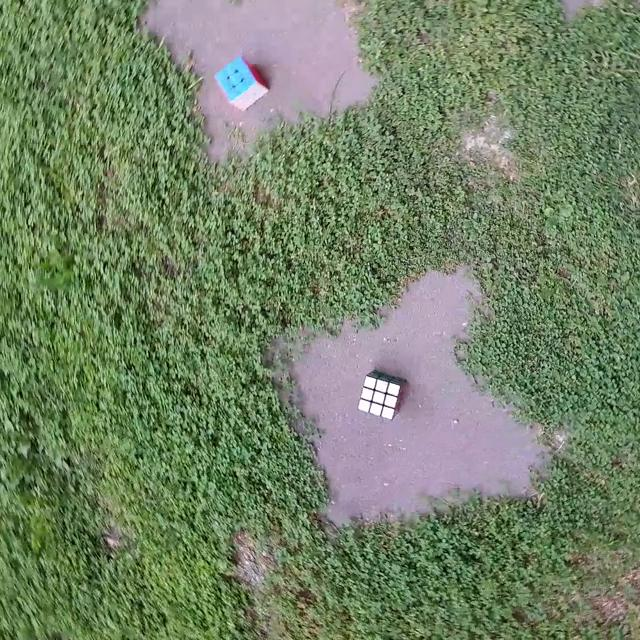rubix_cube: (211, 54, 272, 114), (354, 366, 408, 424)
